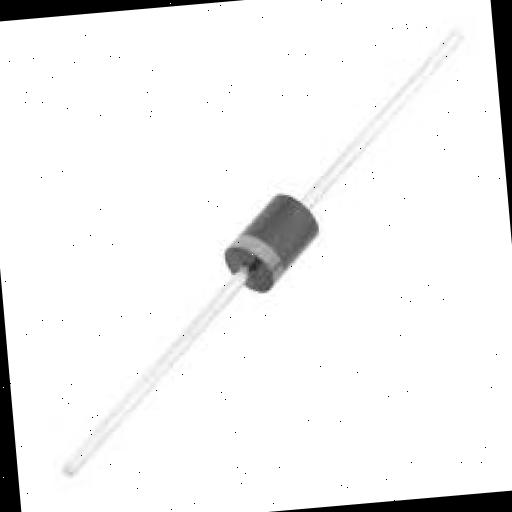DIODE: (23, 22, 499, 478)
